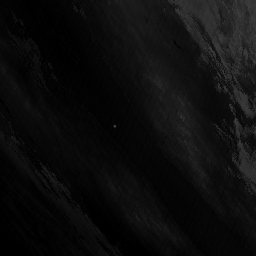Target: (111, 123, 116, 129)
